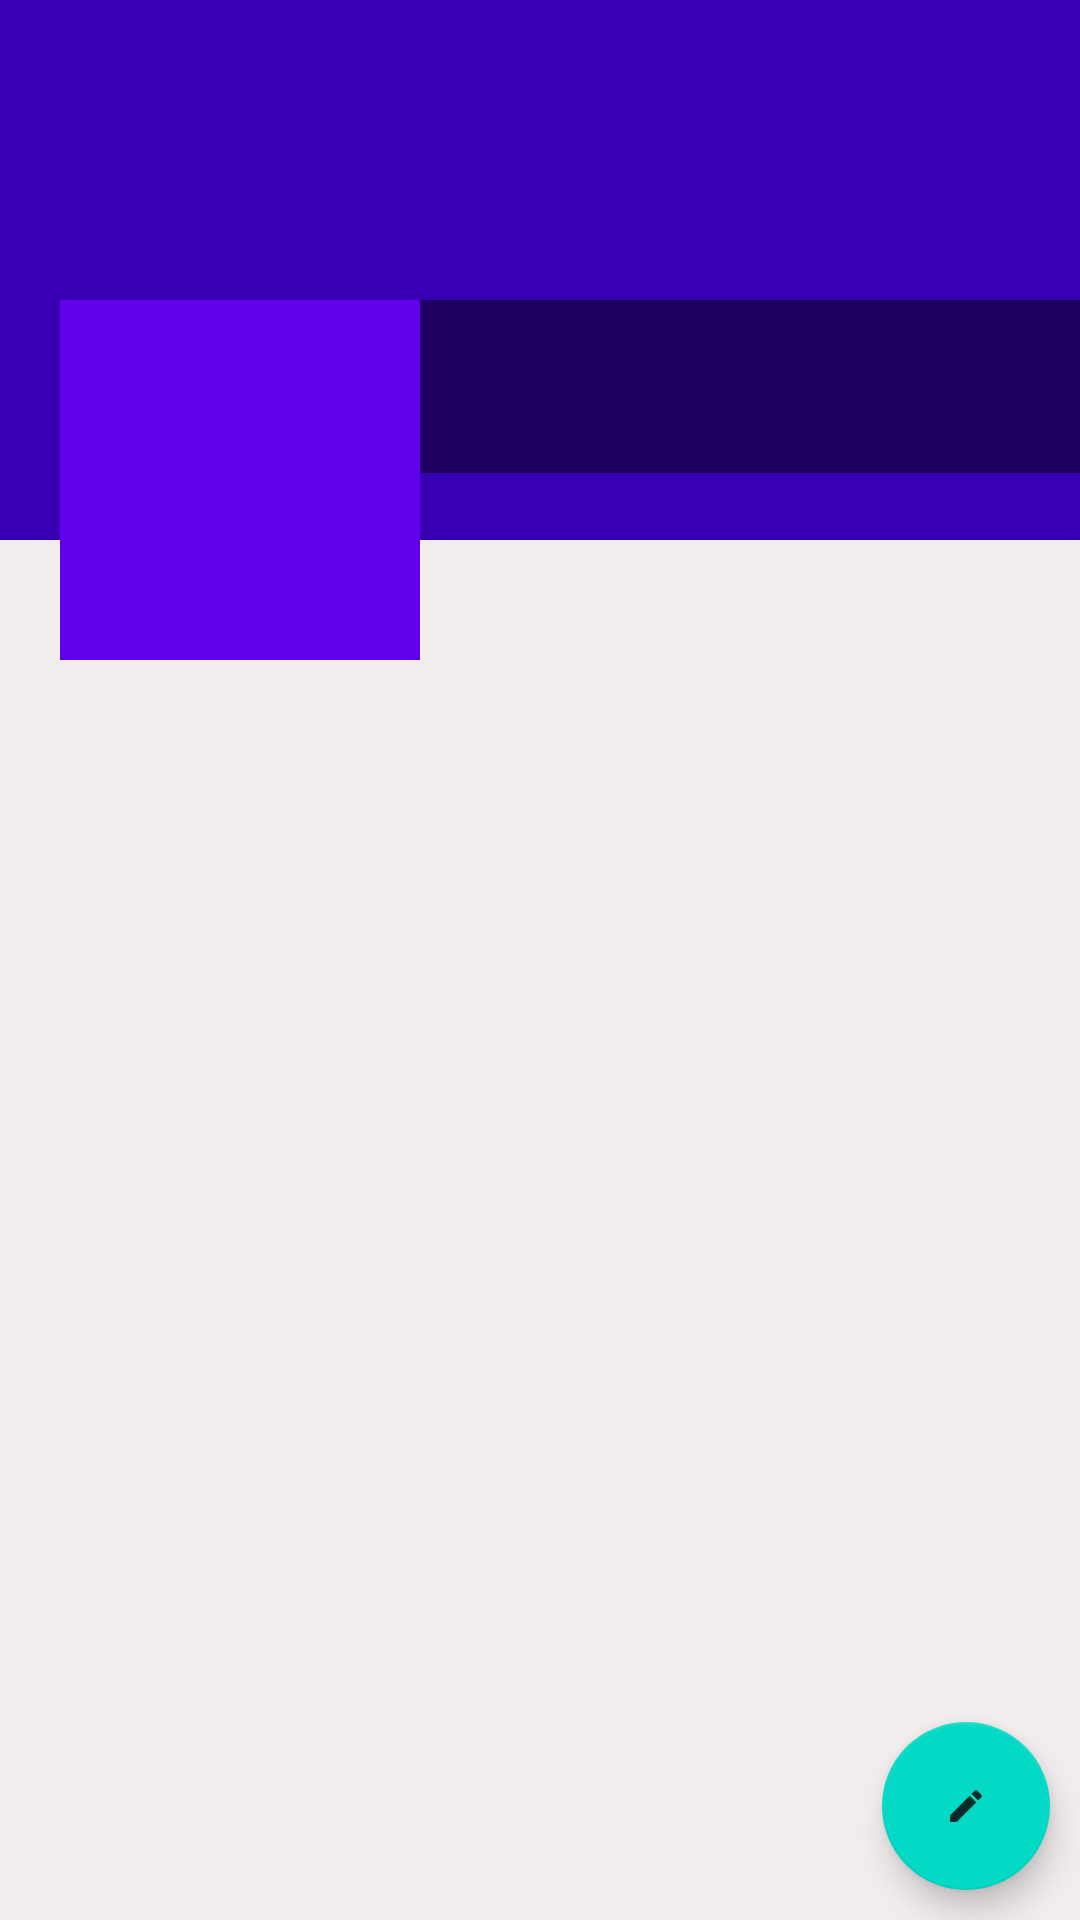

Icons on this 1080px x 1920px Android screen, each with the point to tap as (x,y):
edit: (966,1806)
